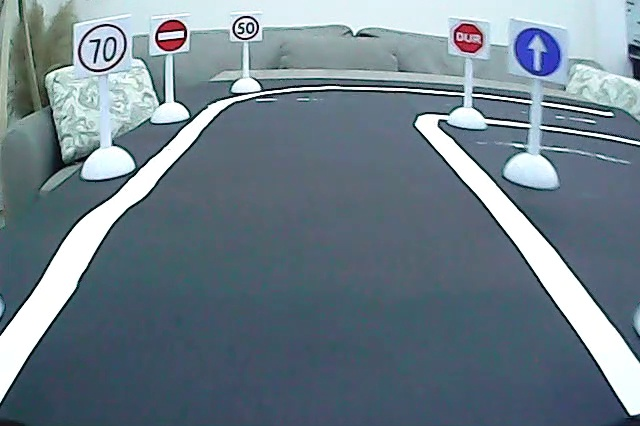do not enter: (153, 18, 189, 54)
speed limit 50: (229, 13, 261, 42)
speed limit 70: (76, 21, 130, 74)
stop sign: (451, 21, 487, 56)
